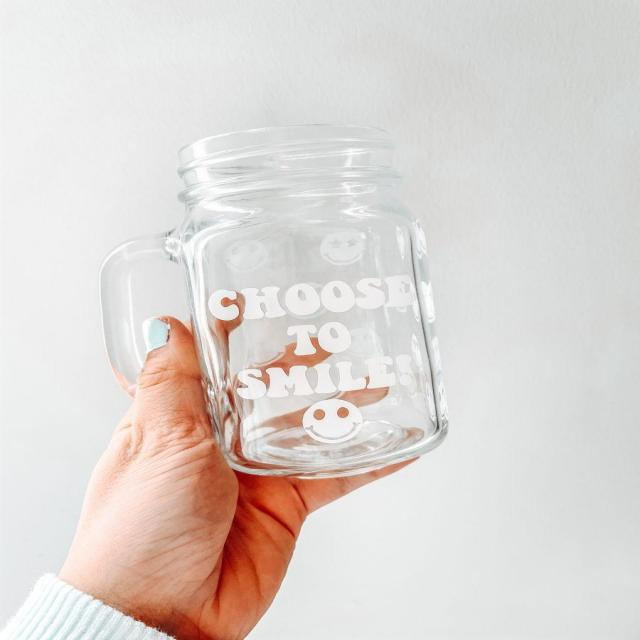glass-mug: (90, 119, 460, 485)
